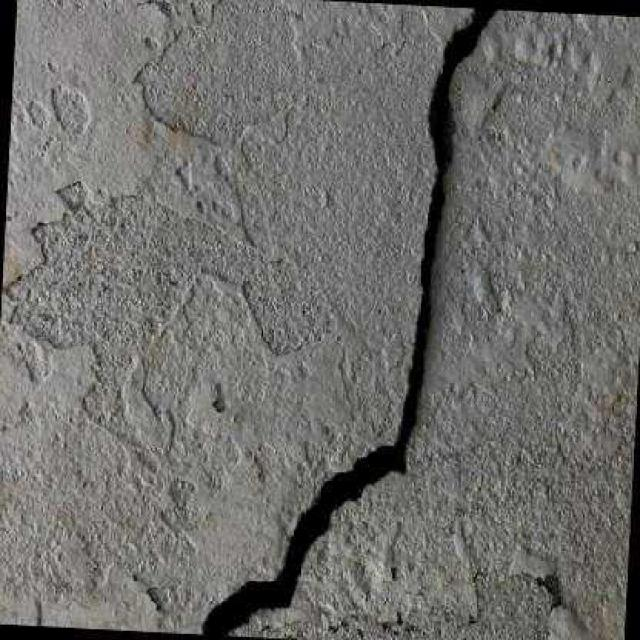D00: (201, 8, 495, 635)
